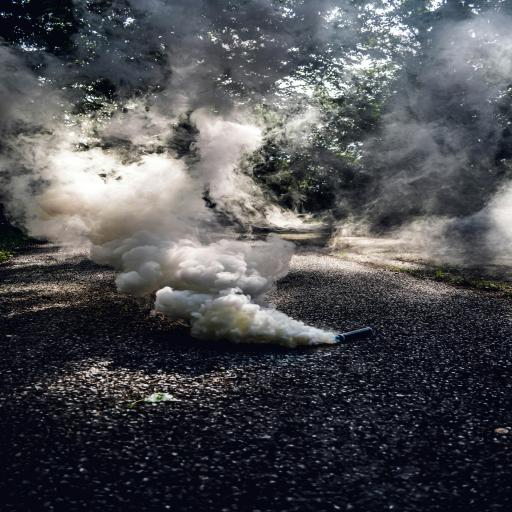smoke: (37, 128, 324, 366)
